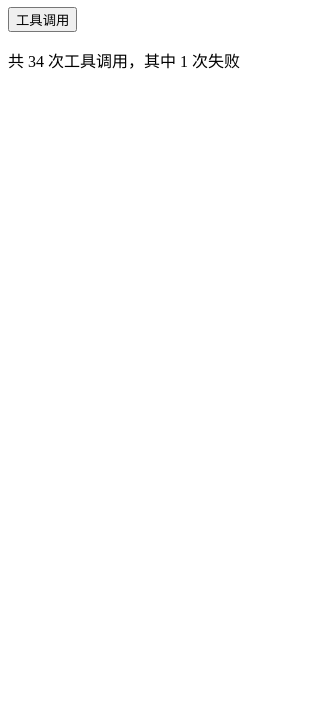
it: ToolTimeline（工具调用时间线） › 展开可回看全量：34 条一条不少
Click the button with test id "tool-timeline-toggle".
click(43, 20)  # box [8,7,77,32]
(page scrolled)
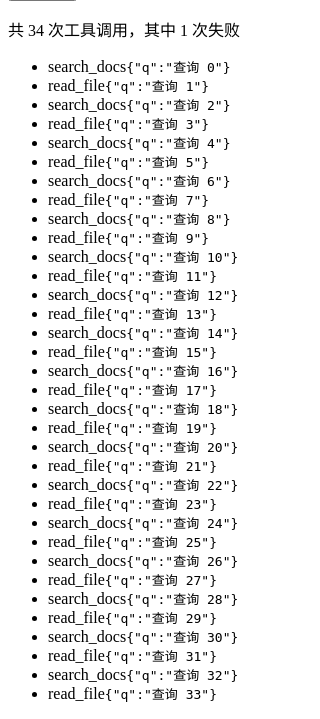
Result: the number of list items with test id "tool-timeline-row" is 34
